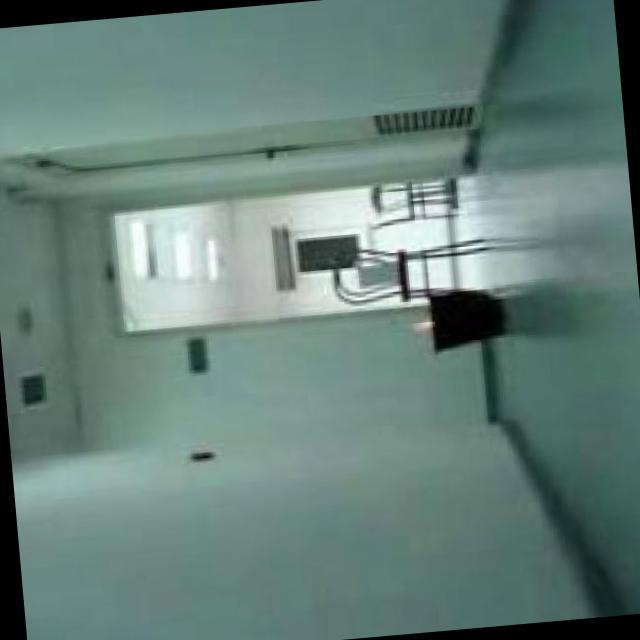Fire: (408, 311, 436, 341)
